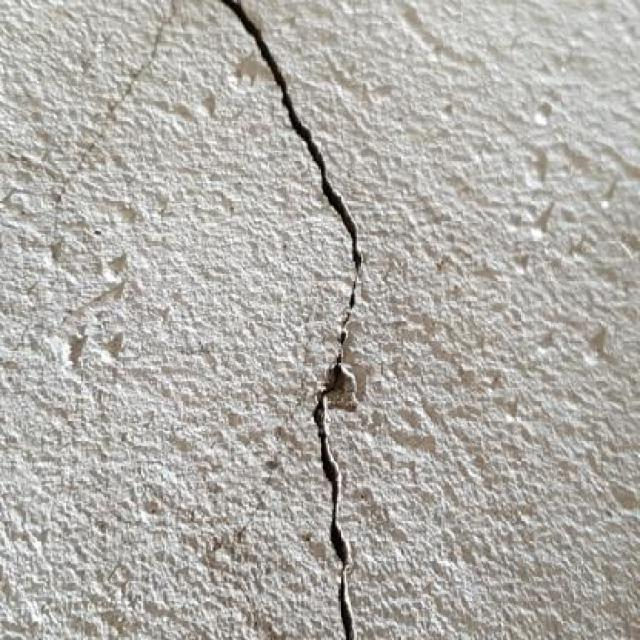GRIETA: (221, 0, 361, 639), (55, 0, 176, 207), (233, 377, 308, 544)
